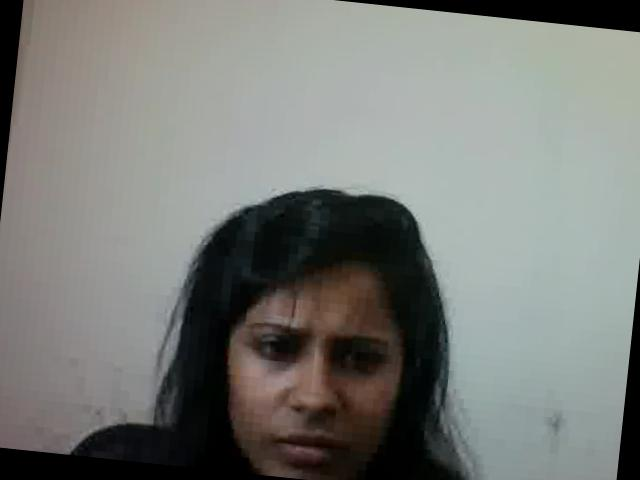bingung: (220, 260, 419, 480)
